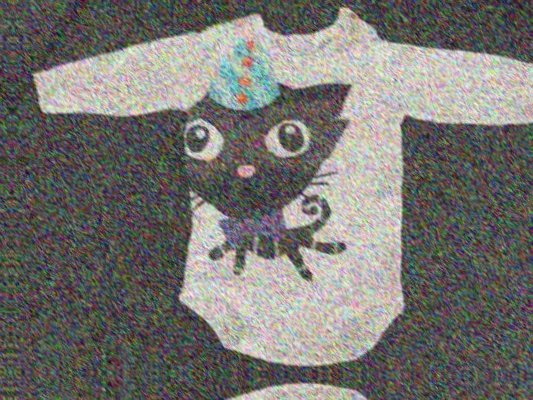Body: (29, 20, 533, 367), (26, 383, 533, 400)
